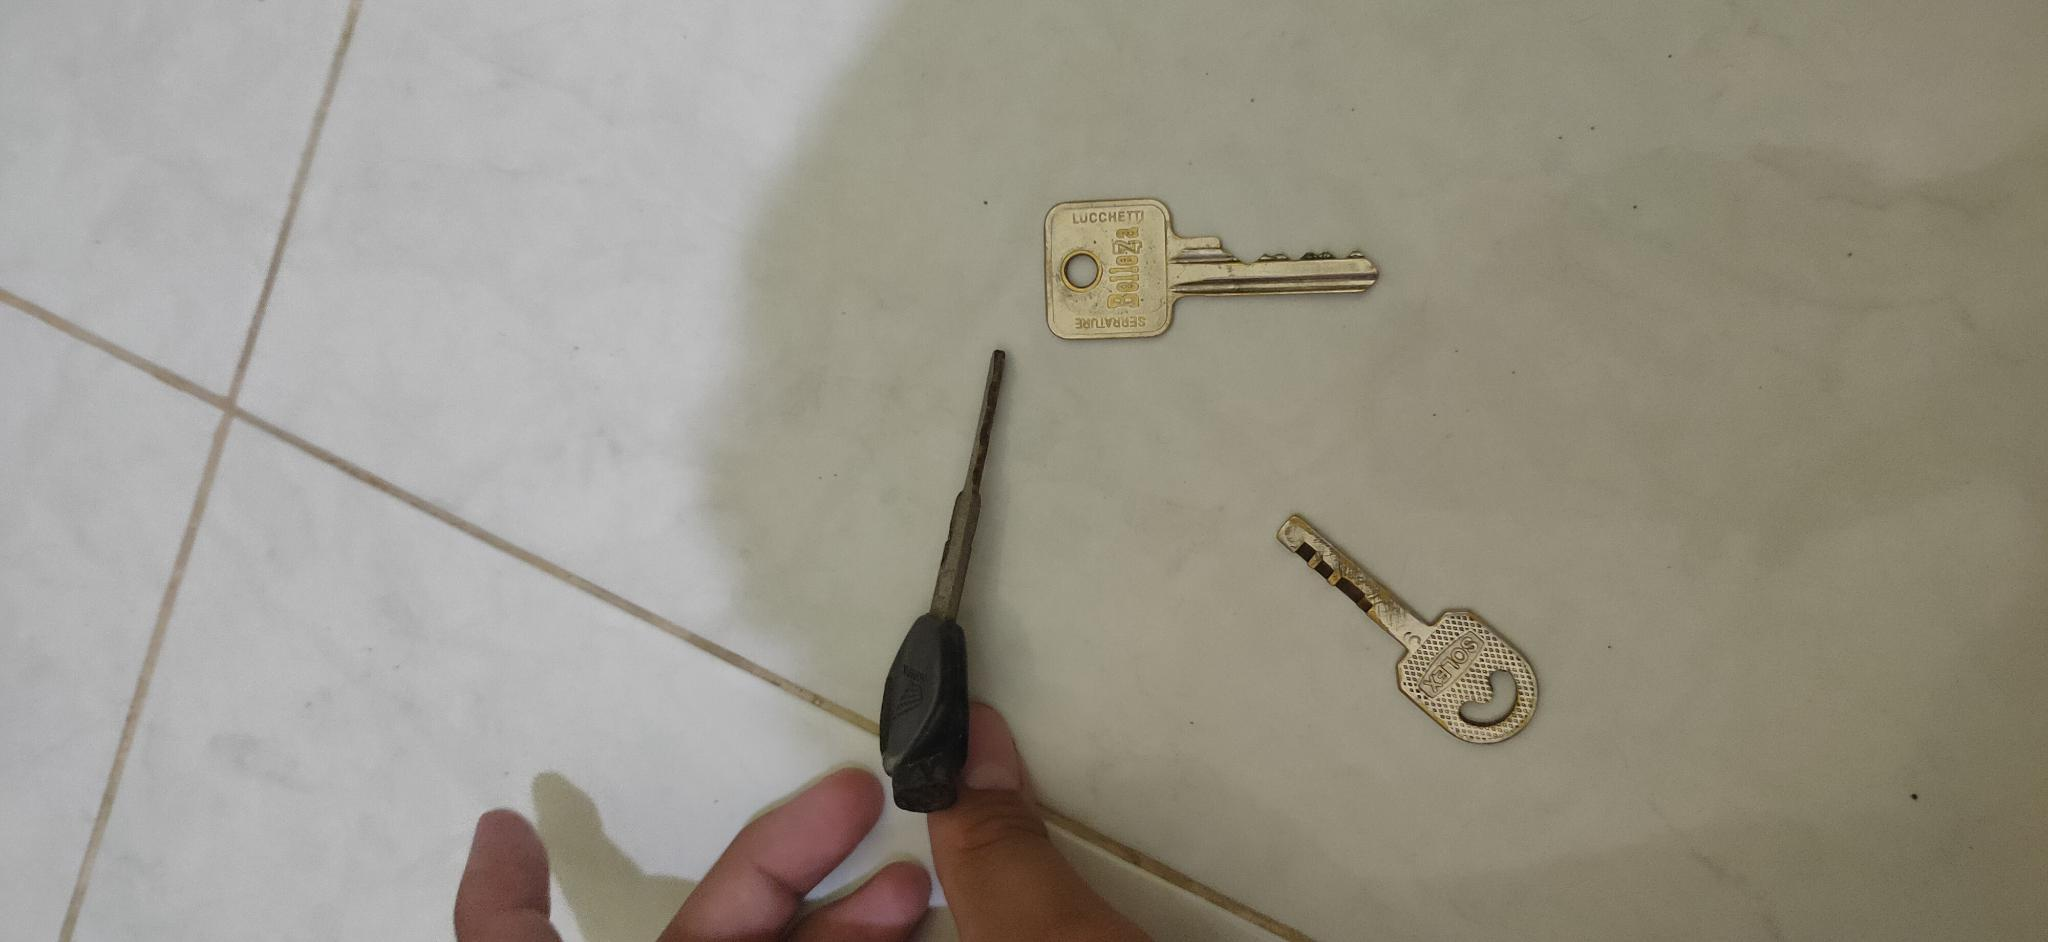keys: (853, 338, 1019, 814), (1273, 499, 1550, 756), (1034, 186, 1398, 358)
